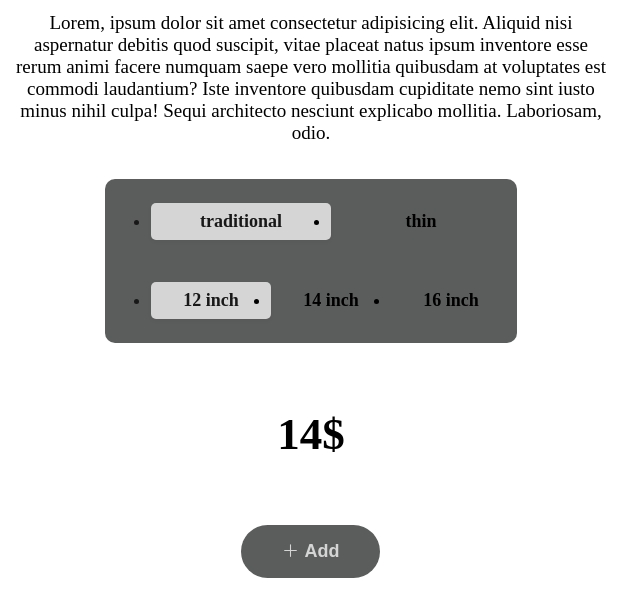
Test: FullProduct tests › FullProduct price changing › should choose new size
The width and height of the screenshot is (623, 595).
(page scrolled)
Click the list item "16 inch" at (451, 300), box [423,290,479,310]
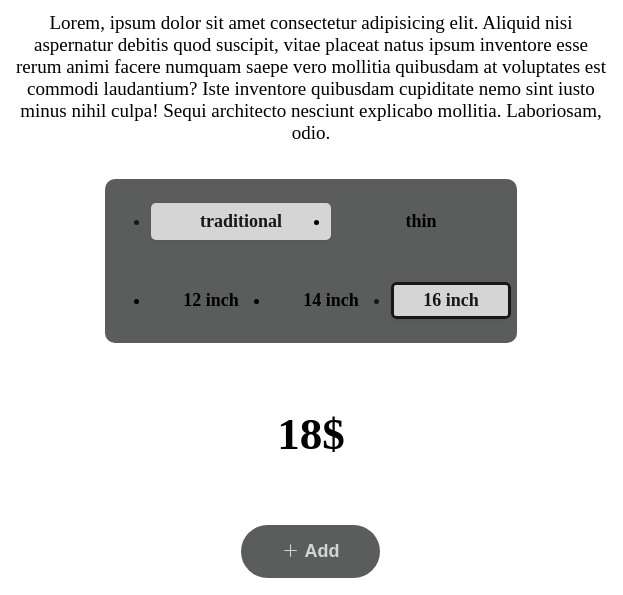
Expected: the heading reads "18$", [277,408,345,460]
